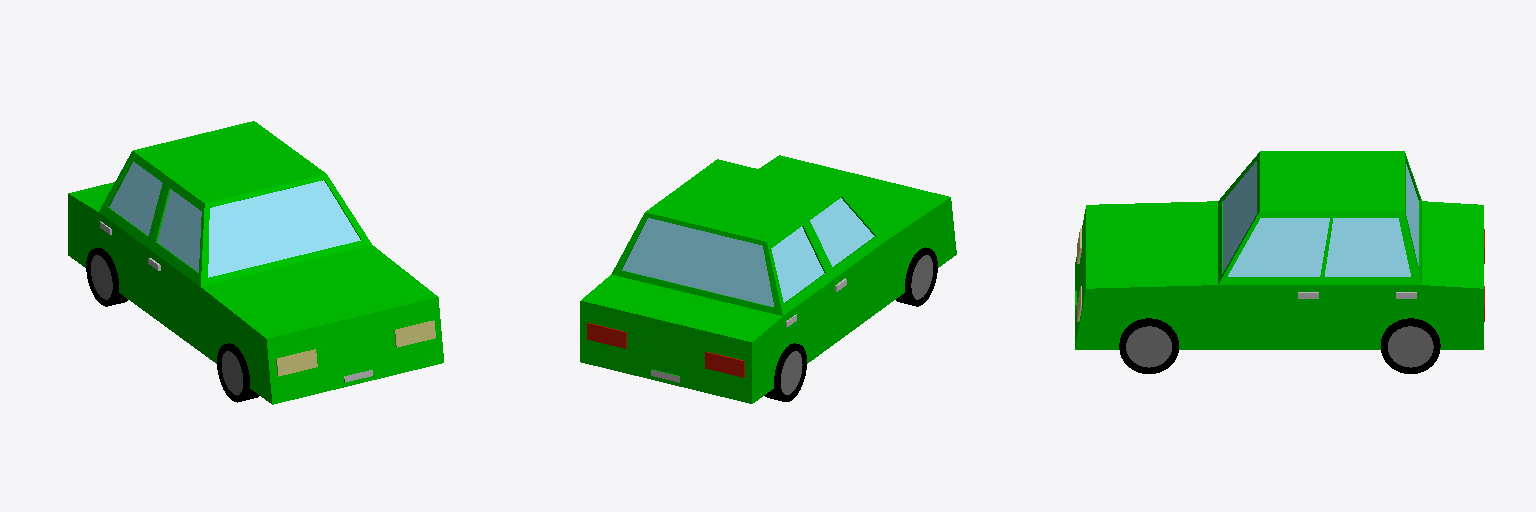
File: greencar.obj
3 views of the same model, side by side, from view 1: azimuth 30°, elevation 25°; view 2: azimuth 150°, elevation 25°; view 3: azimuth 270°, elevation 25° (orthographic).
Parts seen in each view (by area): view 1: Cube.024_Cube, Cylinder.007, Cylinder.005_Cylinder.009; view 2: Cube.024_Cube, Cylinder.005_Cylinder.009, Cylinder.007; view 3: Cube.024_Cube, Cylinder.003, Cylinder.004_Cylinder.008.
Part boxes in pixels (left/top/right/bottom): Cube.024_Cube: left=68, top=121, right=443, bottom=404; Cylinder.007: left=217, top=343, right=259, bottom=402; Cylinder.005_Cylinder.009: left=86, top=248, right=127, bottom=306; Cube.024_Cube: left=580, top=155, right=956, bottom=403; Cylinder.005_Cylinder.009: left=764, top=343, right=806, bottom=401; Cylinder.007: left=896, top=247, right=937, bottom=306; Cube.024_Cube: left=1075, top=151, right=1484, bottom=349; Cylinder.003: left=1119, top=318, right=1178, bottom=373; Cylinder.004_Cylinder.008: left=1381, top=318, right=1440, bottom=373.
Size of the model in its own units: 0.2311 by 0.1842 by 0.4592.